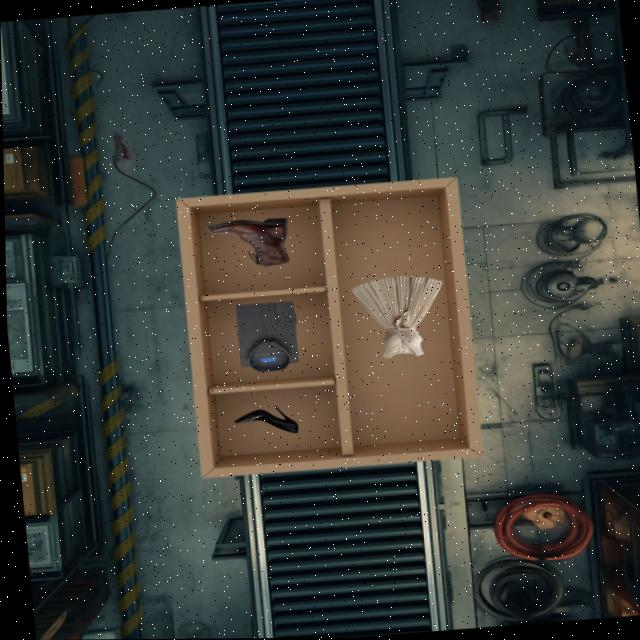boot: (208, 218, 289, 267)
dress: (351, 276, 442, 357)
heel: (235, 406, 298, 433)
shirt: (235, 301, 299, 372)
